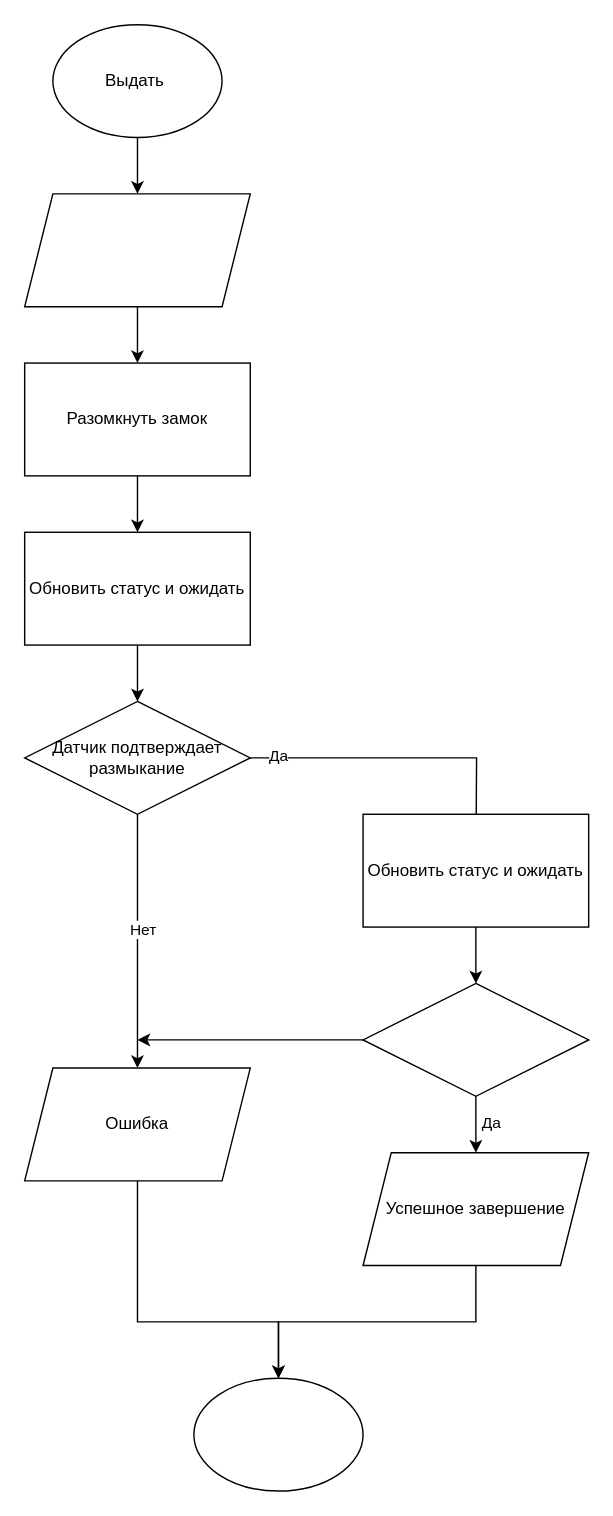
Some shapes in this 613 by 1516 pixel diagram are drawn without their labels. Each missing label, with the centre of its shape:
"id замка и датчика" goes at [136,249].
"Конец" goes at [277,1434].
"Сигнал о замыкании с датчика" goes at [475,1039].
